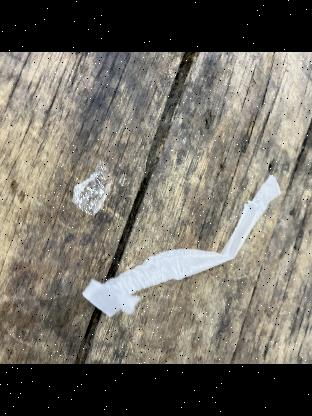Others: (78, 184, 290, 322), (68, 161, 118, 221)
